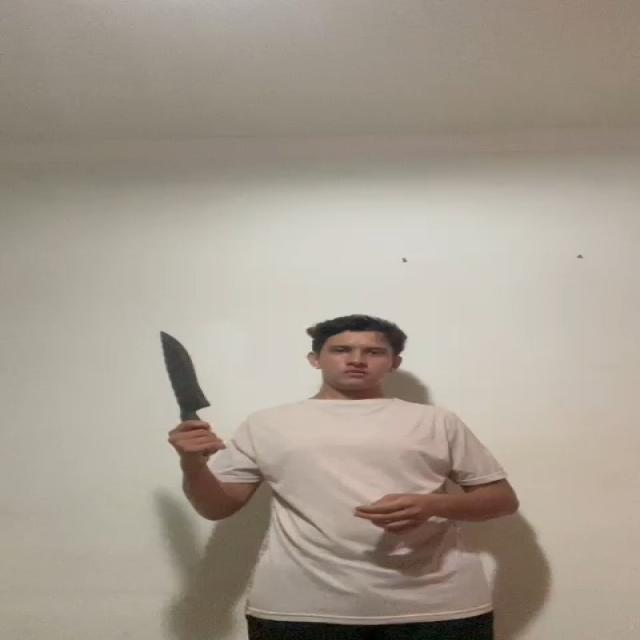knife: (160, 331, 217, 415)
